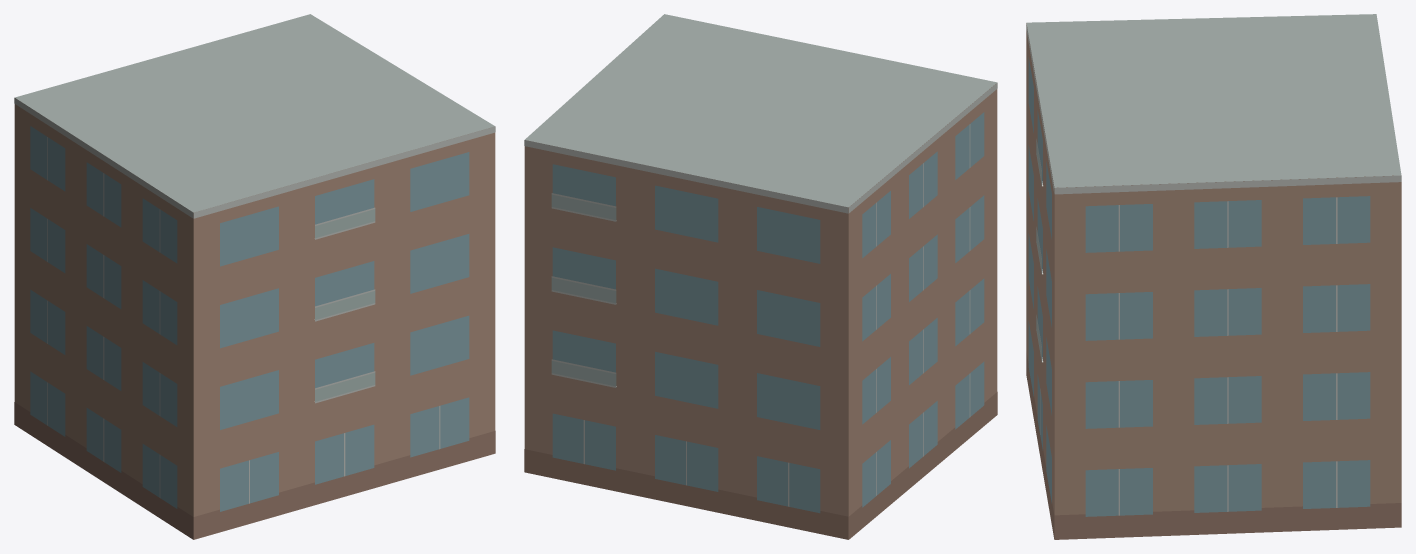
File: survey-upis-32736576.glb
The picture shows the model from 3 angles, left to right: view 1: azimuth 30°, elevation 25°; view 2: azimuth 150°, elevation 25°; view 3: azimuth 270°, elevation 25°; orthographic projection. The views are drawn at different scales.
Parts seen in each view (by area): view 1: survey-upis-32736576.tmp; view 2: survey-upis-32736576.tmp; view 3: survey-upis-32736576.tmp.
Part boxes in pixels (bbox=[...]): survey-upis-32736576.tmp: bbox=[14, 14, 495, 539]; survey-upis-32736576.tmp: bbox=[524, 14, 997, 539]; survey-upis-32736576.tmp: bbox=[1026, 14, 1401, 539].
Bounding box in the file's own units: 13.78 × 13 × 12.57.
